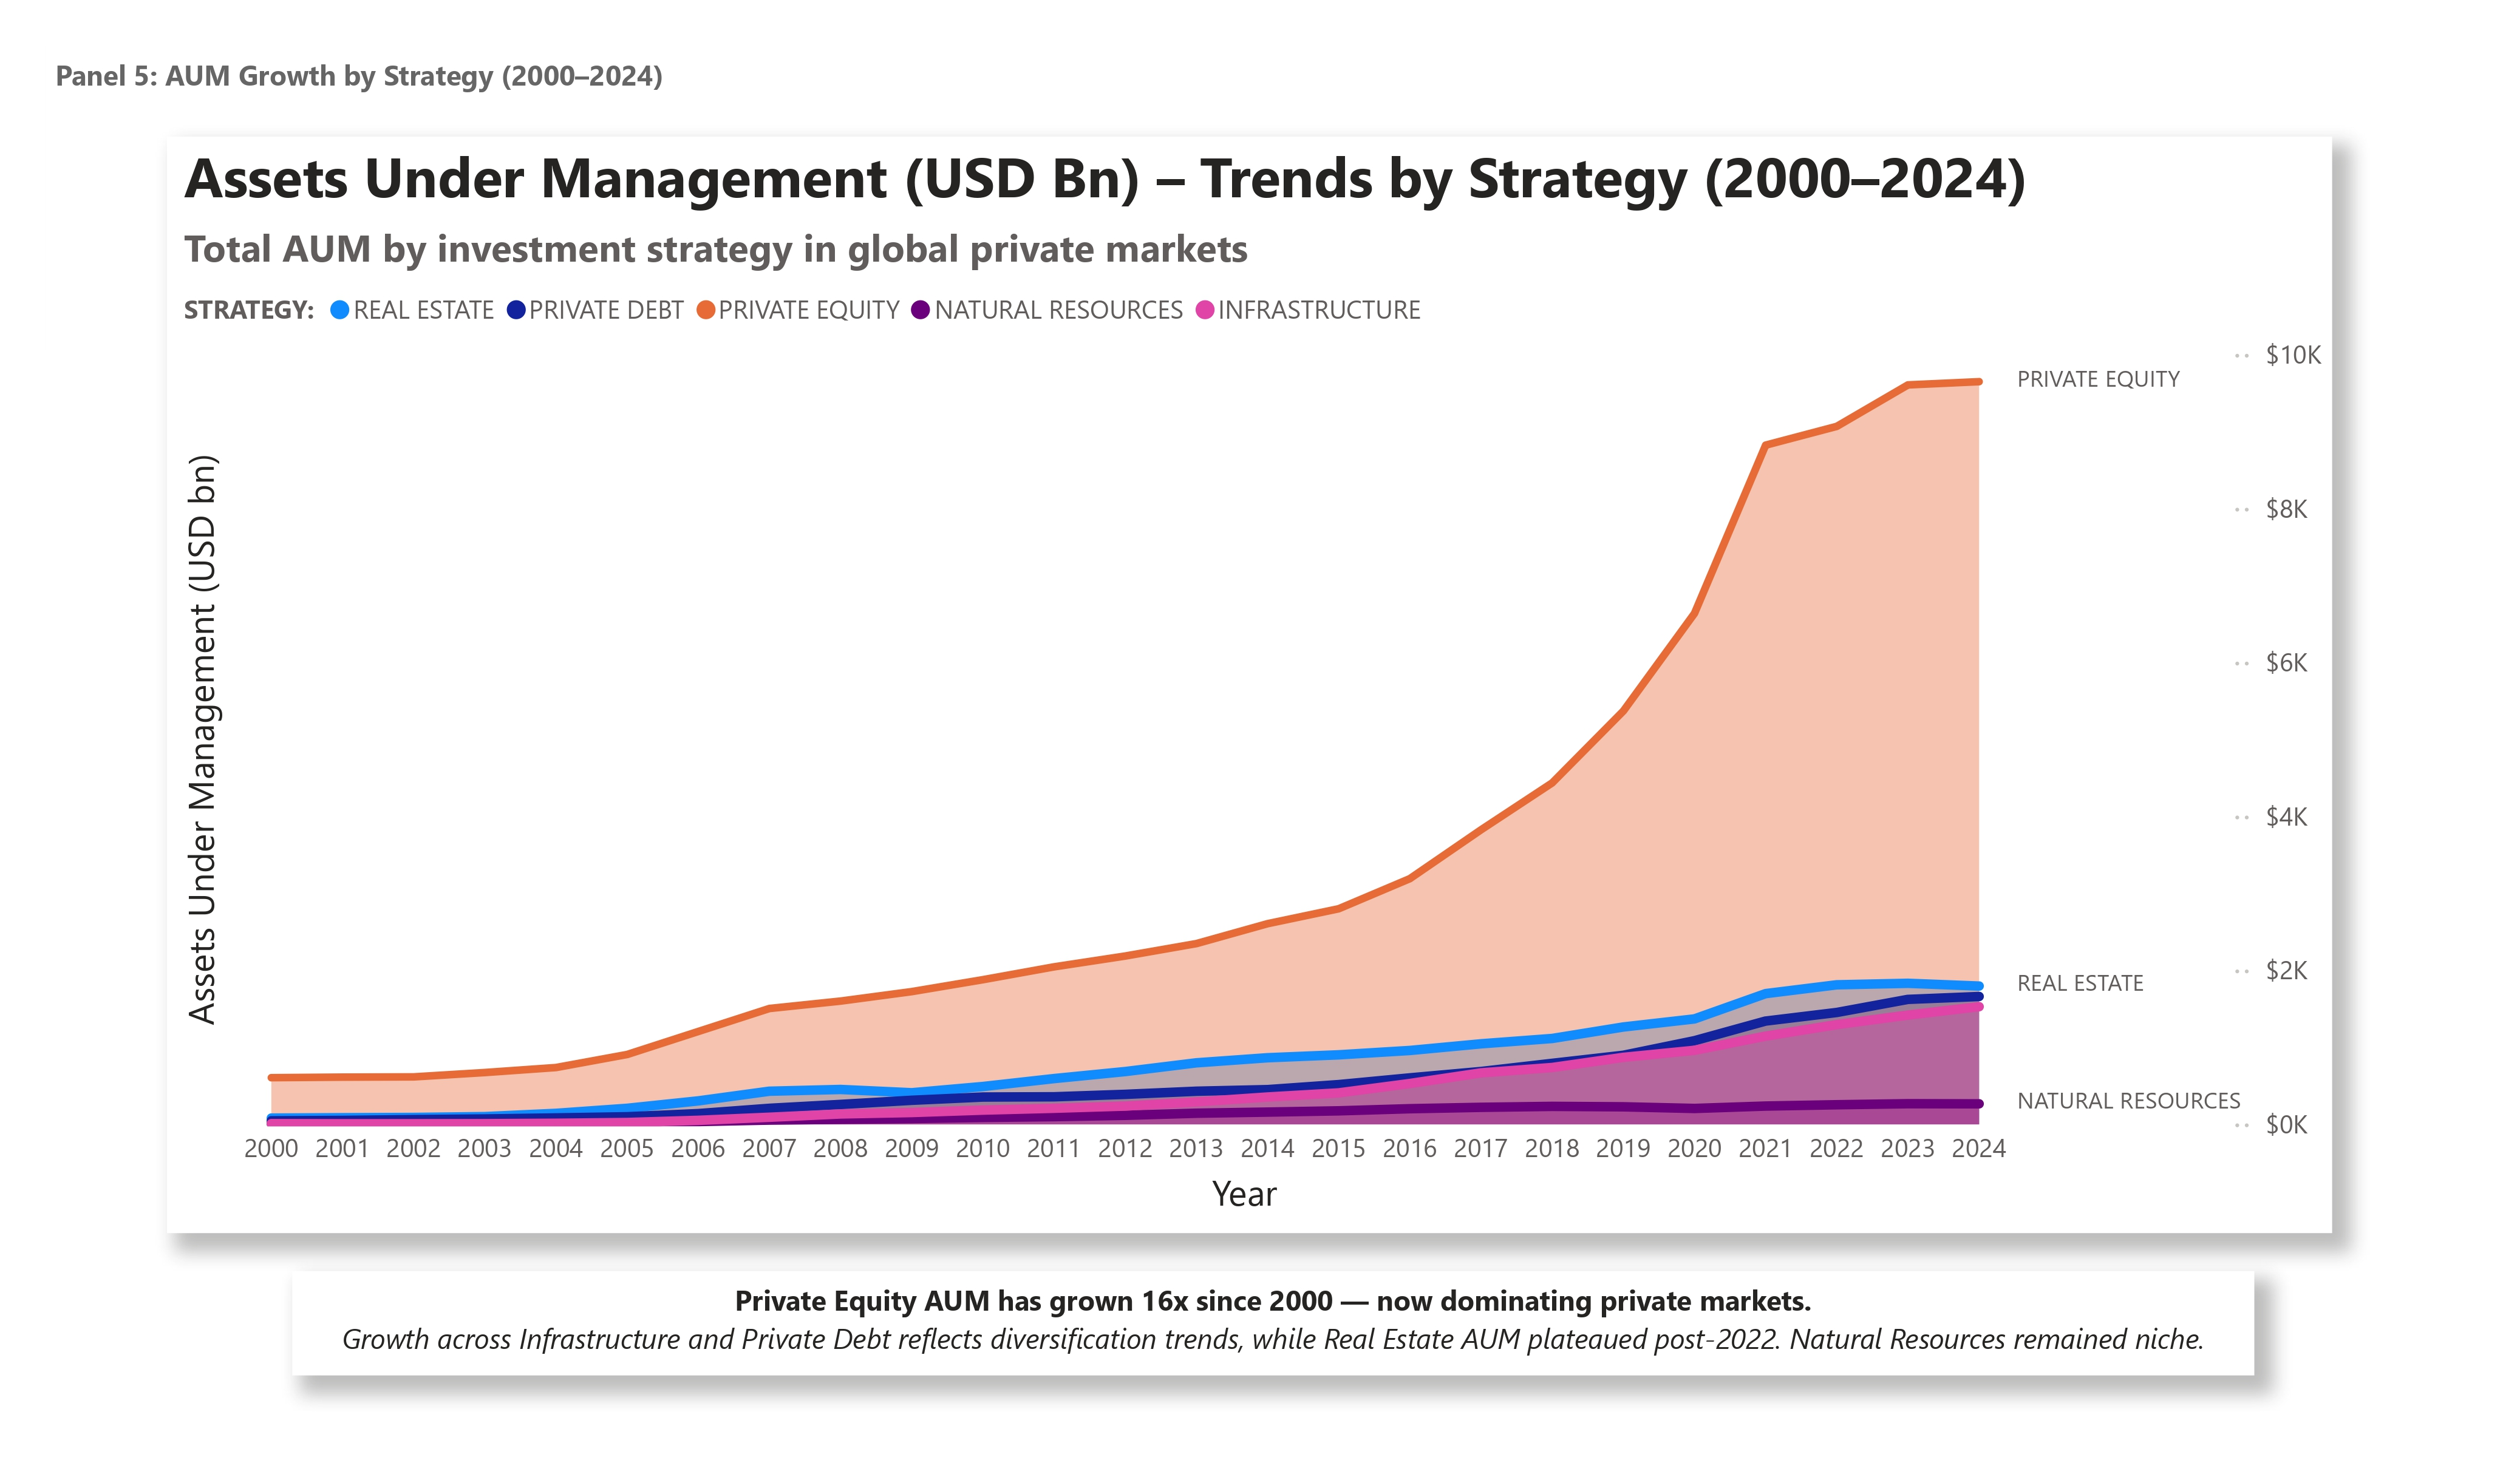

The dashboard page shown, as its layout file describes it:
{"tool":"powerbi","page":{"name":"Panel-5_AUM-Growth-by-Strategy_2000-2024","canvas":[1280,720],"ordinal":11},"visuals":[{"type":"lineChart","title":"Assets Under Management (USD Bn) – Trends by Strategy (2000–2024)","fields":{"Category":["AUM_Data.DATE"],"Y2":["Sum(AUM_Data.REAL ESTATE)","Sum(AUM_Data.PRIVATE DEBT)","Sum(AUM_Data.PRIVATE EQUITY)","Sum(AUM_Data.NATURAL RESOURCES)","Sum(AUM_Data.INFRASTRUCTURE)"]},"box":[63.8,47.5,1141.2,578.8],"z":0},{"type":"textbox","box":[130,646.2,1033.8,55],"z":1000},{"type":"textbox","box":[0,0,356.2,37.5],"z":1001}]}

Visuals, with their boxes on the page's 1280x720 design canvas (x1, y1, x2, y2). These are canvas units, not pixel positions in the 2520x1457 screenshot, which may show the page scaled, cropped or inside an application window:
"Assets Under Management (USD Bn) – Trends by Strategy (2000–2024)" lineChart: Rect(64, 48, 1205, 626)
textbox: Rect(130, 646, 1164, 701)
textbox: Rect(0, 0, 356, 38)
